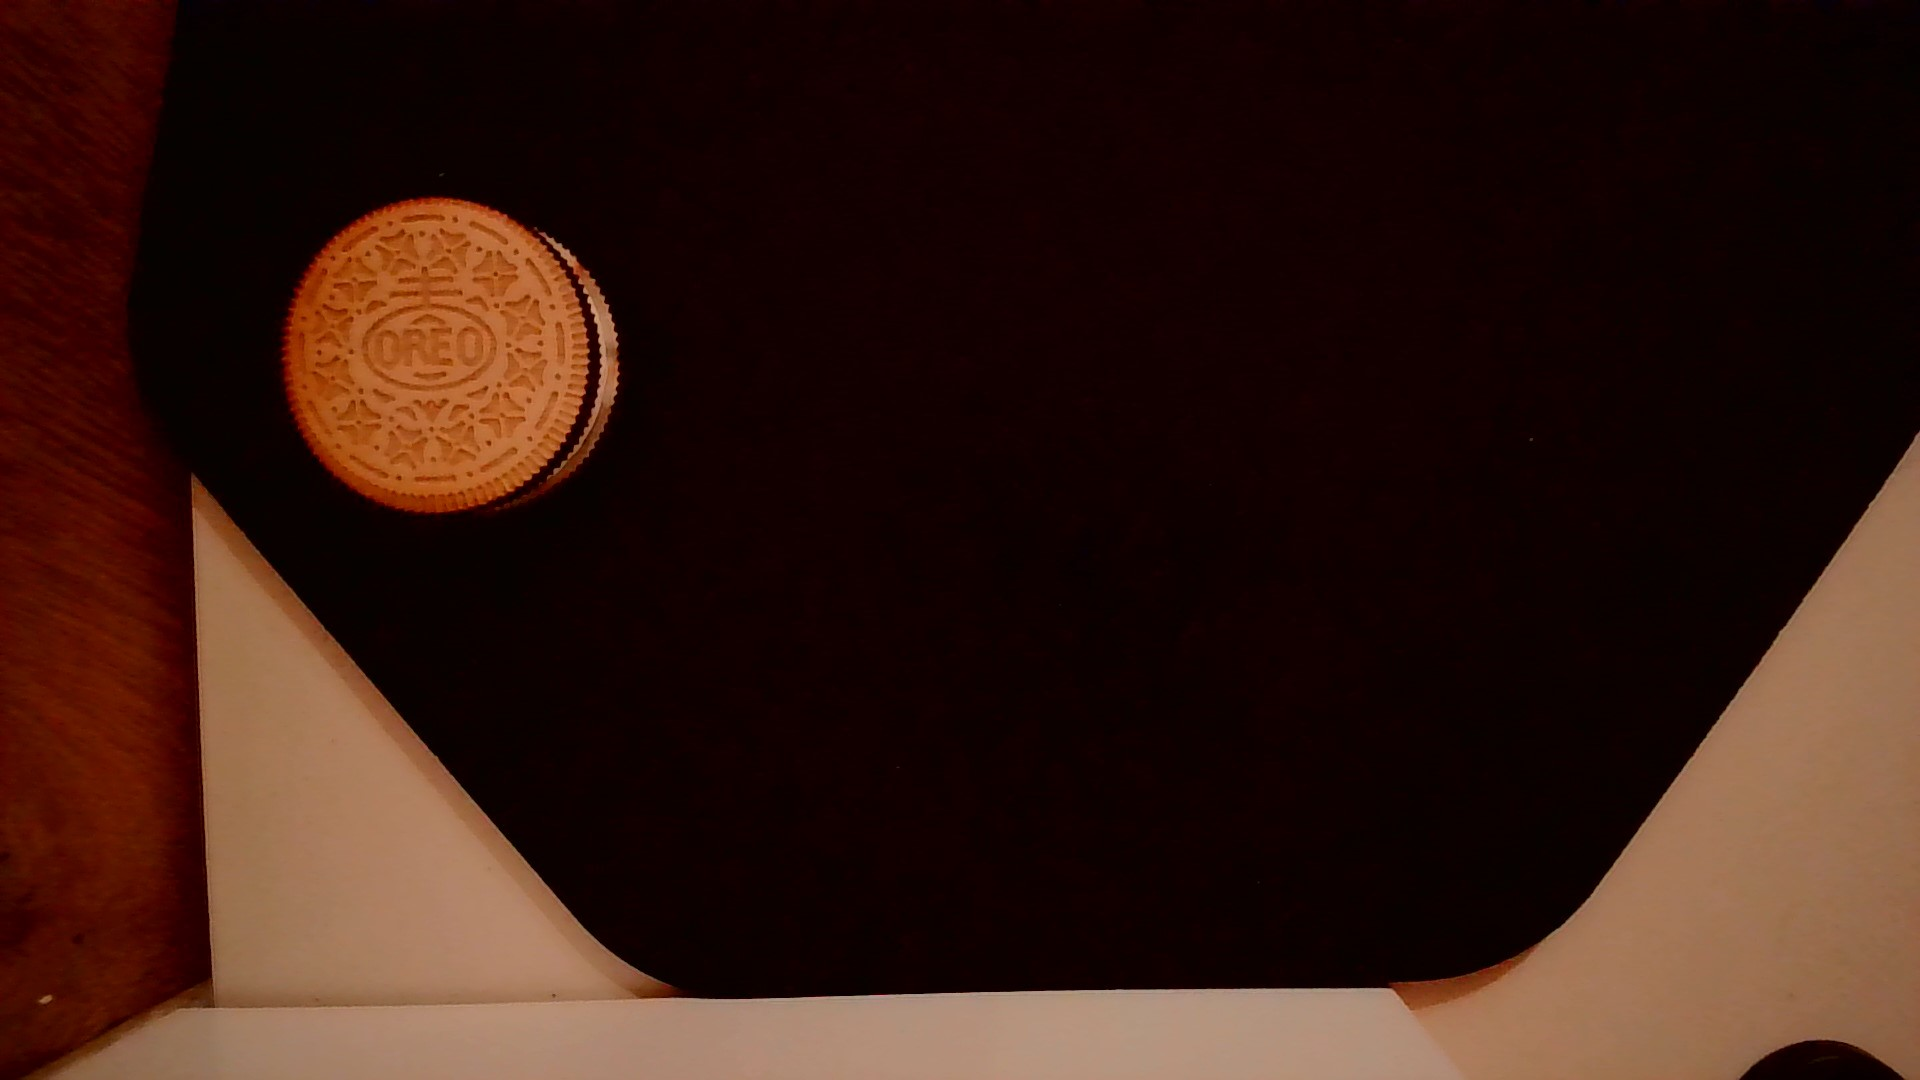Oréo: (268, 193, 626, 526)
